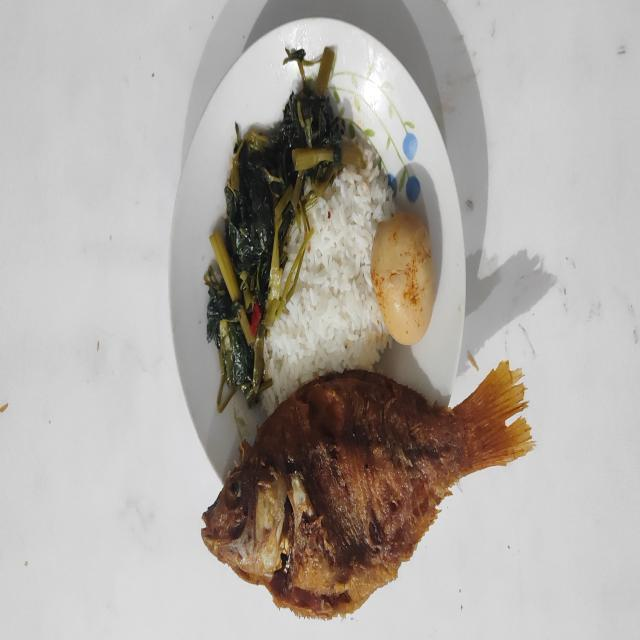ikan_mujair: (202, 361, 534, 618)
nasi_putih: (261, 150, 395, 416)
tumis_kangkung: (204, 46, 364, 412)
